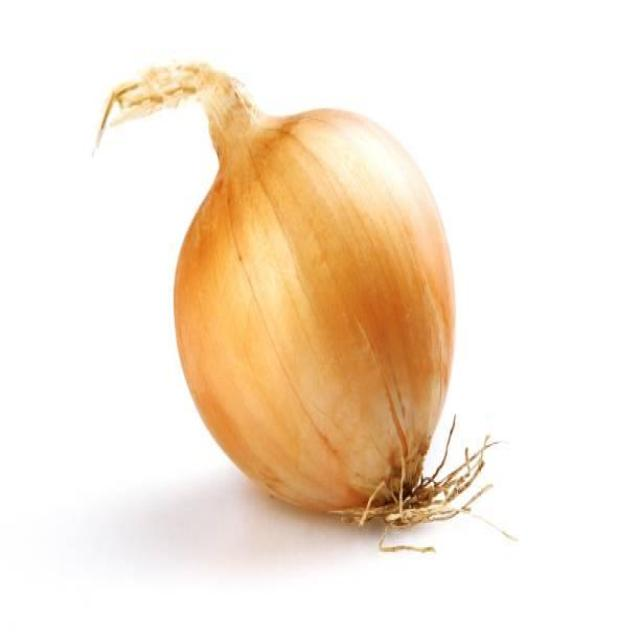Onion: (97, 62, 487, 524)
